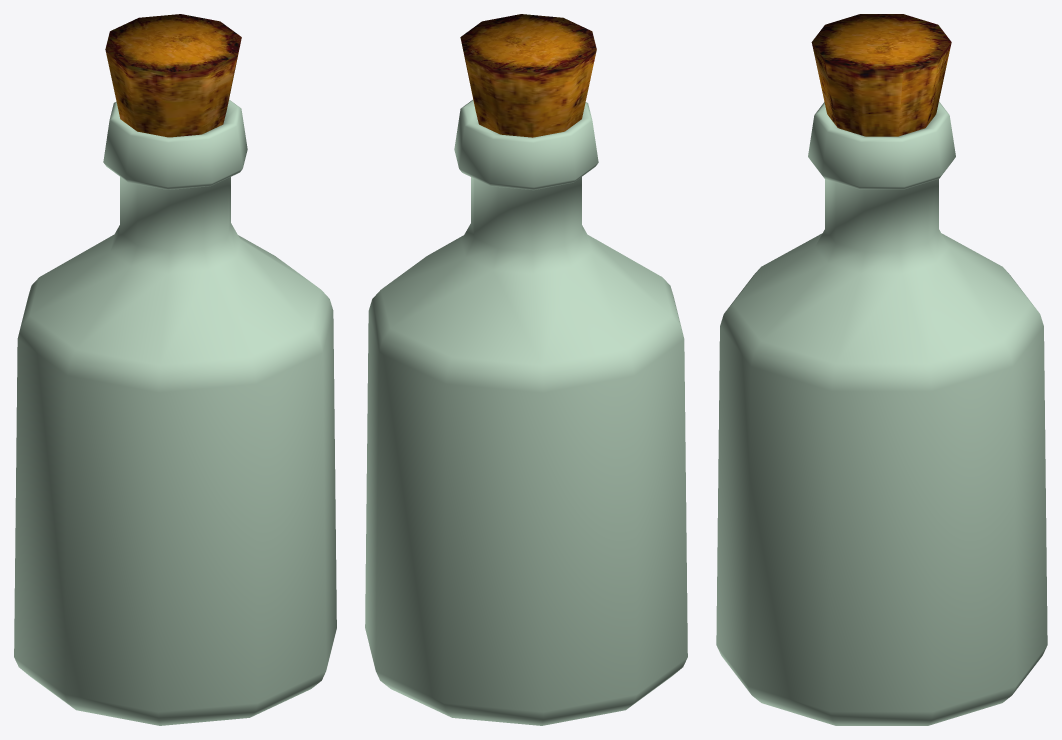
The model's file is bottle.glb.
3 renders of one model, left to right at view 1: azimuth 30°, elevation 25°; view 2: azimuth 150°, elevation 25°; view 3: azimuth 270°, elevation 25°, orthographic.
Parts seen in each view (by area): view 1: item; view 2: item; view 3: item.
Part boxes in pixels (x1,y1,x2,y2): item: (14, 14, 336, 725); item: (365, 14, 687, 725); item: (716, 14, 1047, 725).
Bounding box in the file's own units: 0.4582 × 1 × 0.4819.
2 materials, 1 textured.
